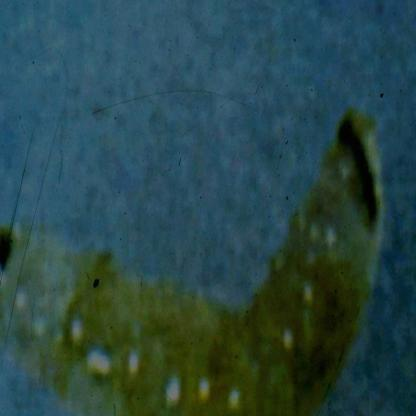whorl-maggot: (0, 102, 390, 416)
